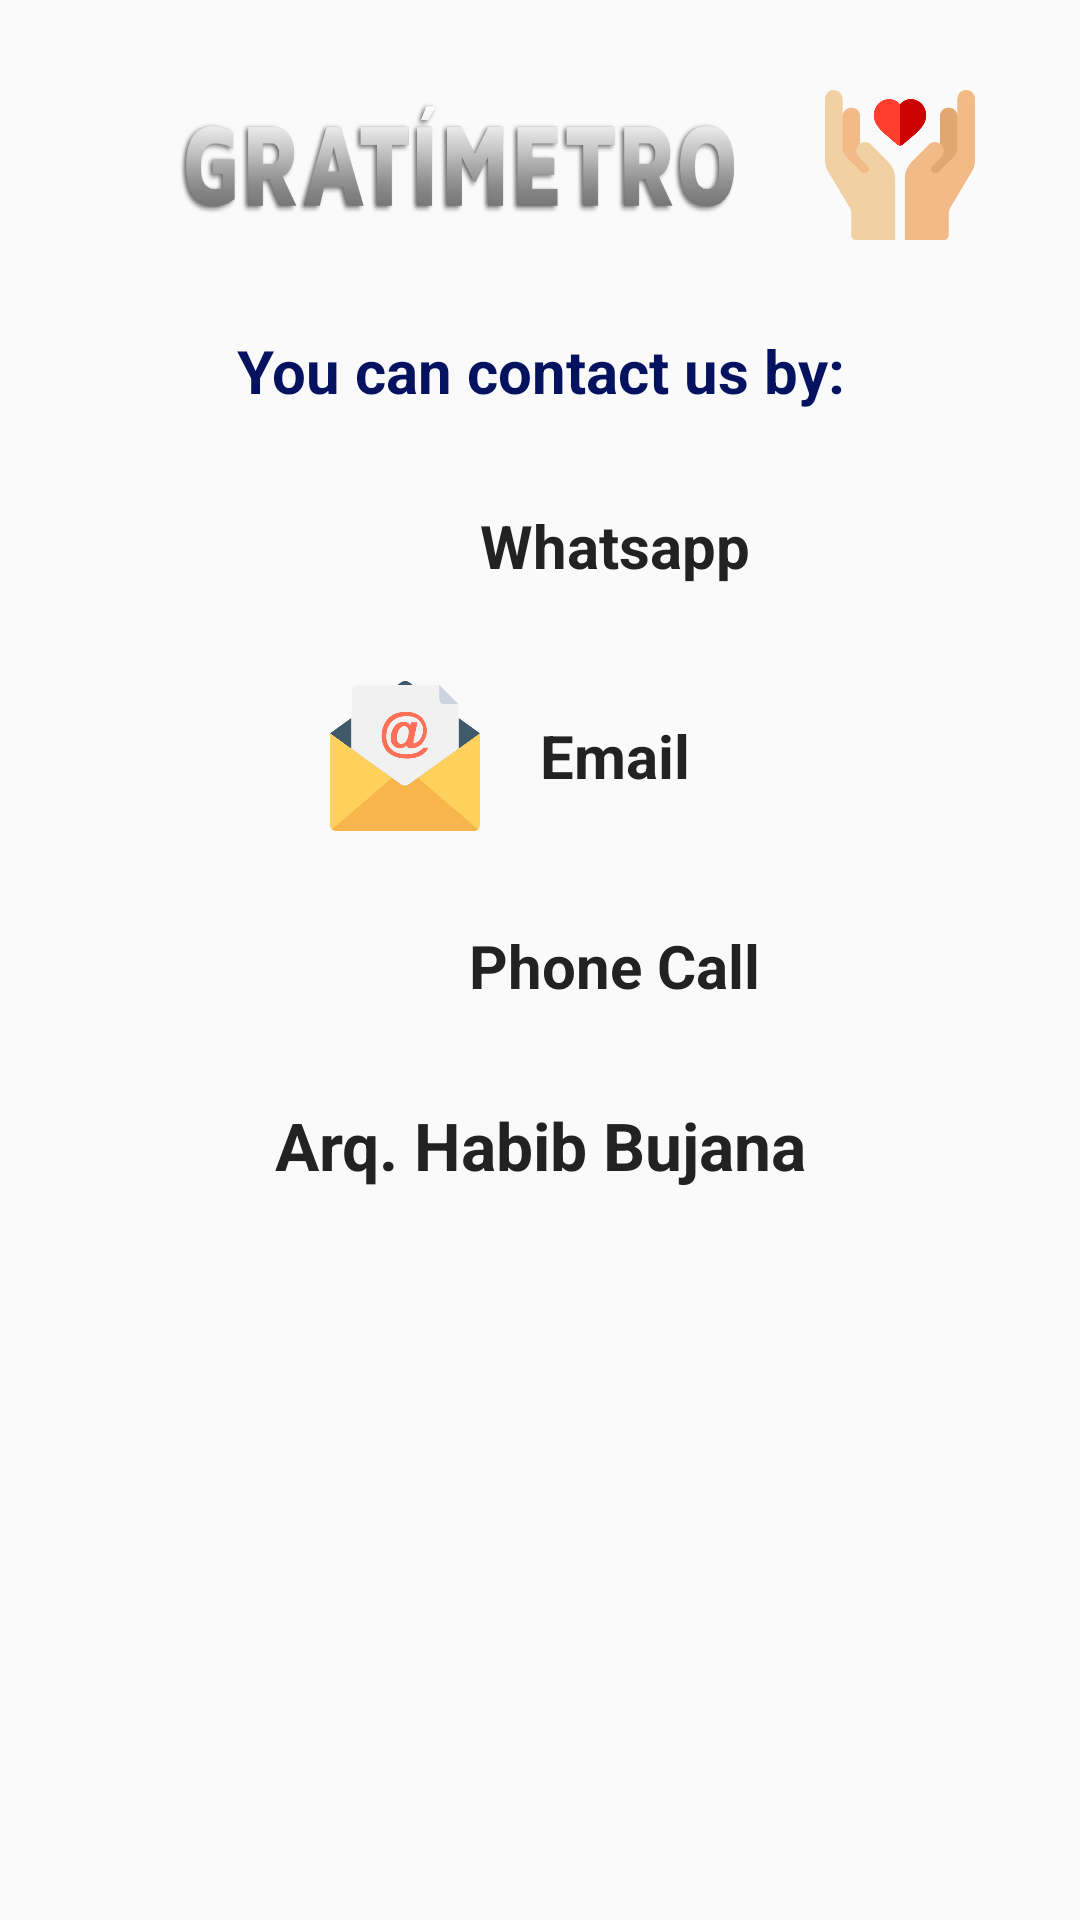

Where to tap for icons on this 1080px×1920px app screen, as point (x, y):
correo: point (405, 756)
hands: point (900, 165)
